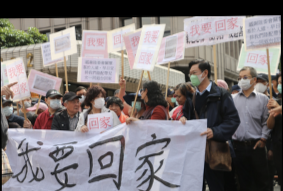with_mask: (236, 73, 254, 91), (187, 69, 202, 87), (253, 78, 268, 94), (91, 93, 105, 110), (47, 96, 62, 110), (129, 97, 143, 112), (18, 96, 32, 110), (0, 103, 13, 118), (74, 91, 87, 104), (138, 88, 146, 106), (276, 79, 282, 93), (169, 94, 177, 104)
without_mask: (66, 98, 81, 114), (108, 102, 121, 117), (174, 93, 185, 107)
